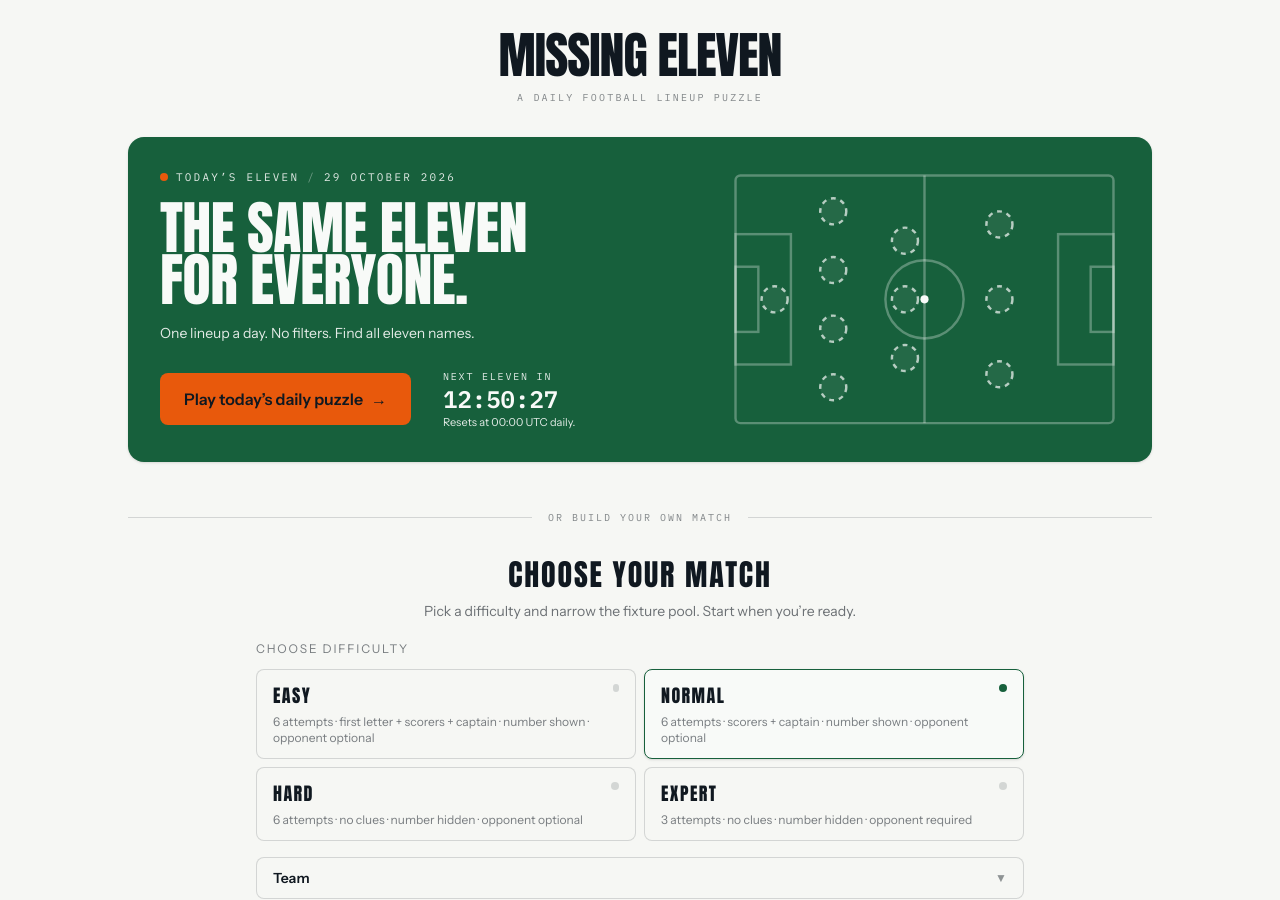
Test: missing-eleven pre-screen gate › forces the panel open with its toggle hidden and sections collapsed
The image size is (1280, 900).
Expected: the checkbox labelled "FC Porto" is not shown
Click the button "Team ▼".
click(291, 878)  # box [256,857,1024,899]
(page scrolled)
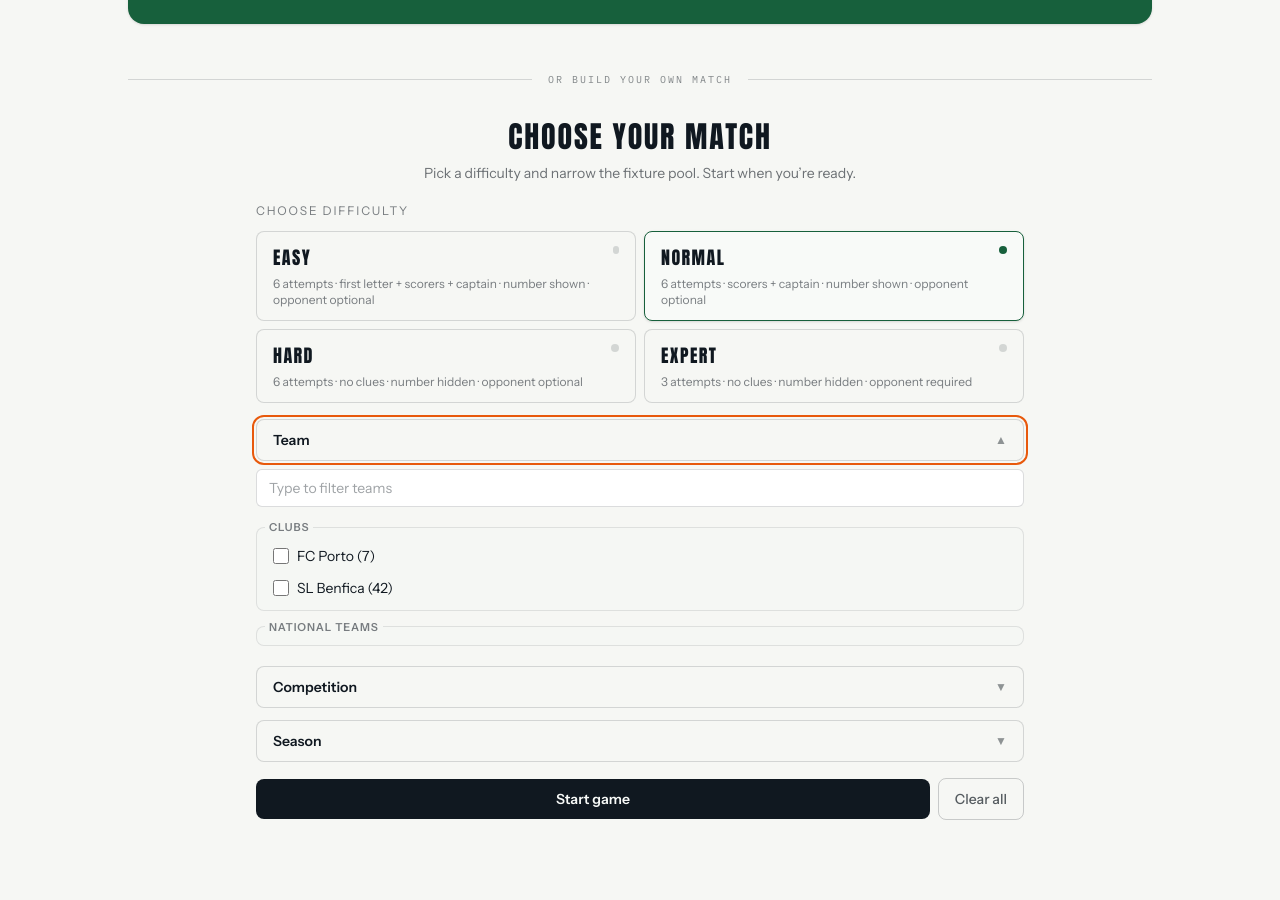
Expected: the checkbox labelled "FC Porto (7)" is shown, [273,548,289,564]
